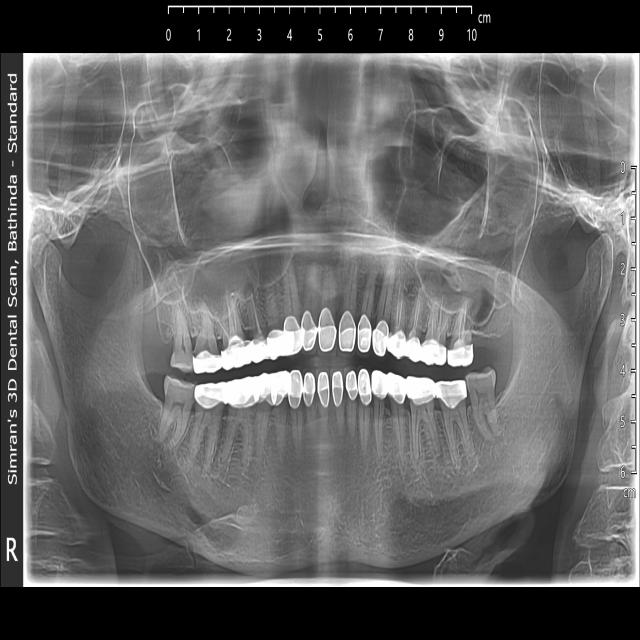Crown: (219, 338, 254, 369), (225, 376, 257, 408), (437, 378, 467, 409), (405, 378, 436, 407), (267, 329, 294, 362), (336, 310, 356, 353), (420, 337, 448, 367), (195, 383, 227, 409), (268, 370, 290, 404), (193, 350, 222, 375), (319, 309, 336, 351), (286, 317, 304, 354), (447, 344, 473, 368), (387, 373, 407, 403), (301, 313, 317, 350), (288, 371, 303, 408), (372, 322, 388, 355), (357, 314, 371, 351), (389, 329, 405, 360), (404, 337, 423, 362), (359, 370, 372, 406), (254, 372, 270, 401), (332, 370, 344, 408), (372, 370, 388, 397), (304, 374, 316, 408), (252, 339, 270, 361), (318, 374, 329, 409), (346, 372, 358, 400)
Mandibular Canal: (82, 393, 242, 539), (433, 356, 563, 503)
Periapical lesion: (432, 438, 447, 466)
Root Canal Treatment: (251, 294, 263, 338), (227, 295, 236, 337), (216, 316, 229, 339), (438, 312, 449, 338), (459, 299, 466, 338), (395, 279, 400, 331), (461, 298, 467, 338), (439, 292, 444, 339), (398, 288, 403, 334), (415, 292, 420, 335), (414, 291, 419, 330), (232, 297, 237, 334), (432, 298, 435, 338)
maxillary sinus: (397, 94, 539, 314), (126, 130, 293, 316)
